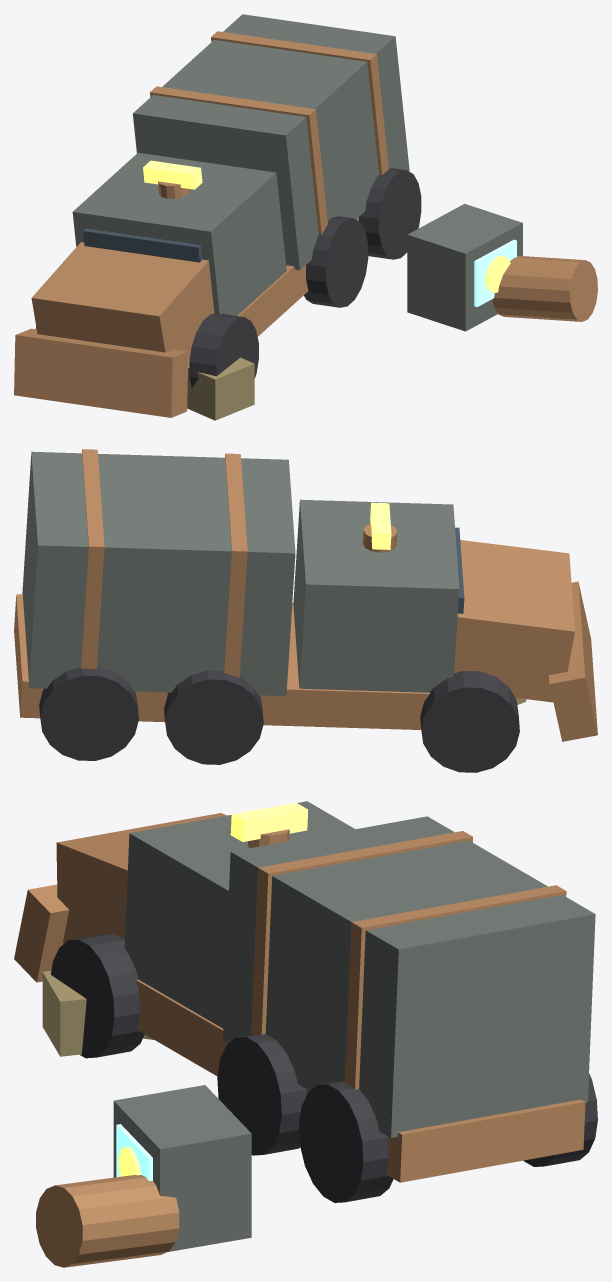
File: node_event_convoy.glb
3 renders of one model, top to bottom at view 1: azimuth 30°, elevation 25°; view 2: azimuth 150°, elevation 25°; view 3: azimuth 270°, elevation 25°, orthographic. The views are drawn at different scales.
Visible parts, largest first — view 1: ArmoredCargoPod, TruckCab, TruckHood, RamPlowWreck, VaultShell, FuelDrumSpilled, RigWheel_3, RigWheel_5, RigWheel_1, ScrapCrateB, CargoRibA, CargoRibB (+5 smaller); view 2: ArmoredCargoPod, TruckCab, TruckHood, TruckChassis, RigWheel_0, RigWheel_2, RigWheel_4, RamPlowWreck, CargoRibA, CargoRibB, BeaconBar, WindshieldSlit; view 3: ArmoredCargoPod, TruckCab, VaultShell, TruckChassis, FuelDrumSpilled, RigWheel_5, RigWheel_3, RigWheel_1, TruckHood, CargoRibA, CargoRibB, RamPlowWreck (+4 smaller).
Part boxes in pixels (x1,y1,x2,y2): ArmoredCargoPod: (132,14,409,270); TruckCab: (72,152,286,315); TruckHood: (31,242,214,360); RamPlowWreck: (14,328,188,417); VaultShell: (407,203,522,331); FuelDrumSpilled: (492,255,597,321); RigWheel_3: (304,216,368,307); RigWheel_5: (359,168,421,259); RigWheel_1: (189,313,258,387); ScrapCrateB: (187,357,254,420); CargoRibA: (150,86,327,234); CargoRibB: (211,31,388,174); ArmoredCargoPod: (22,451,295,696); TruckCab: (293,499,459,692); TruckHood: (454,540,574,702); TruckChassis: (14,594,429,729); RigWheel_0: (420,670,519,772); RigWheel_2: (164,670,263,764); RigWheel_4: (39,667,138,760); RamPlowWreck: (549,581,597,741); CargoRibA: (224,453,247,677); CargoRibB: (81,449,104,668); BeaconBar: (370,502,391,549); WindshieldSlit: (455,527,464,613); ArmoredCargoPod: (223,816,595,1137); TruckCab: (124,801,354,1028); VaultShell: (113,1085,251,1253); TruckChassis: (136,979,585,1182); FuelDrumSpilled: (36,1174,179,1267); RigWheel_5: (299,1081,393,1202); RigWheel_3: (217,1034,306,1155); RigWheel_1: (51,933,144,1058); TruckHood: (56,813,226,943); CargoRibA: (251,831,473,1034); CargoRibB: (345,885,566,1089); RamPlowWreck: (14,884,69,982).
Bounding box in the file's own units: 5.17 × 2.1 × 3.66.
